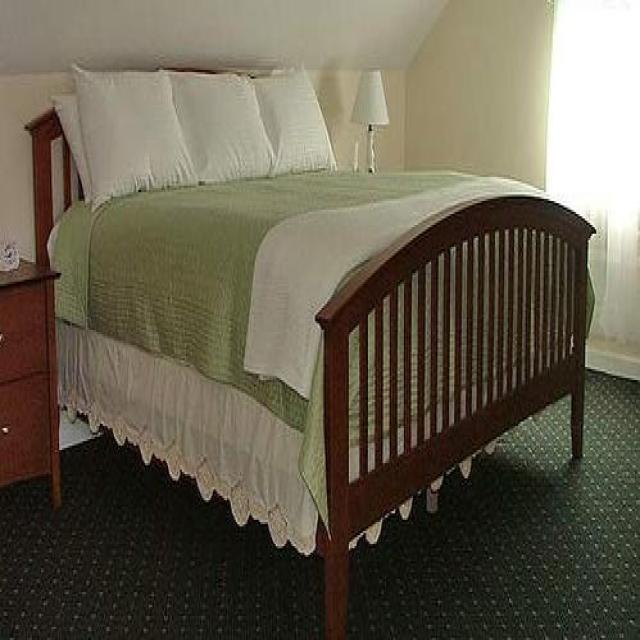bed: (23, 61, 595, 640)
